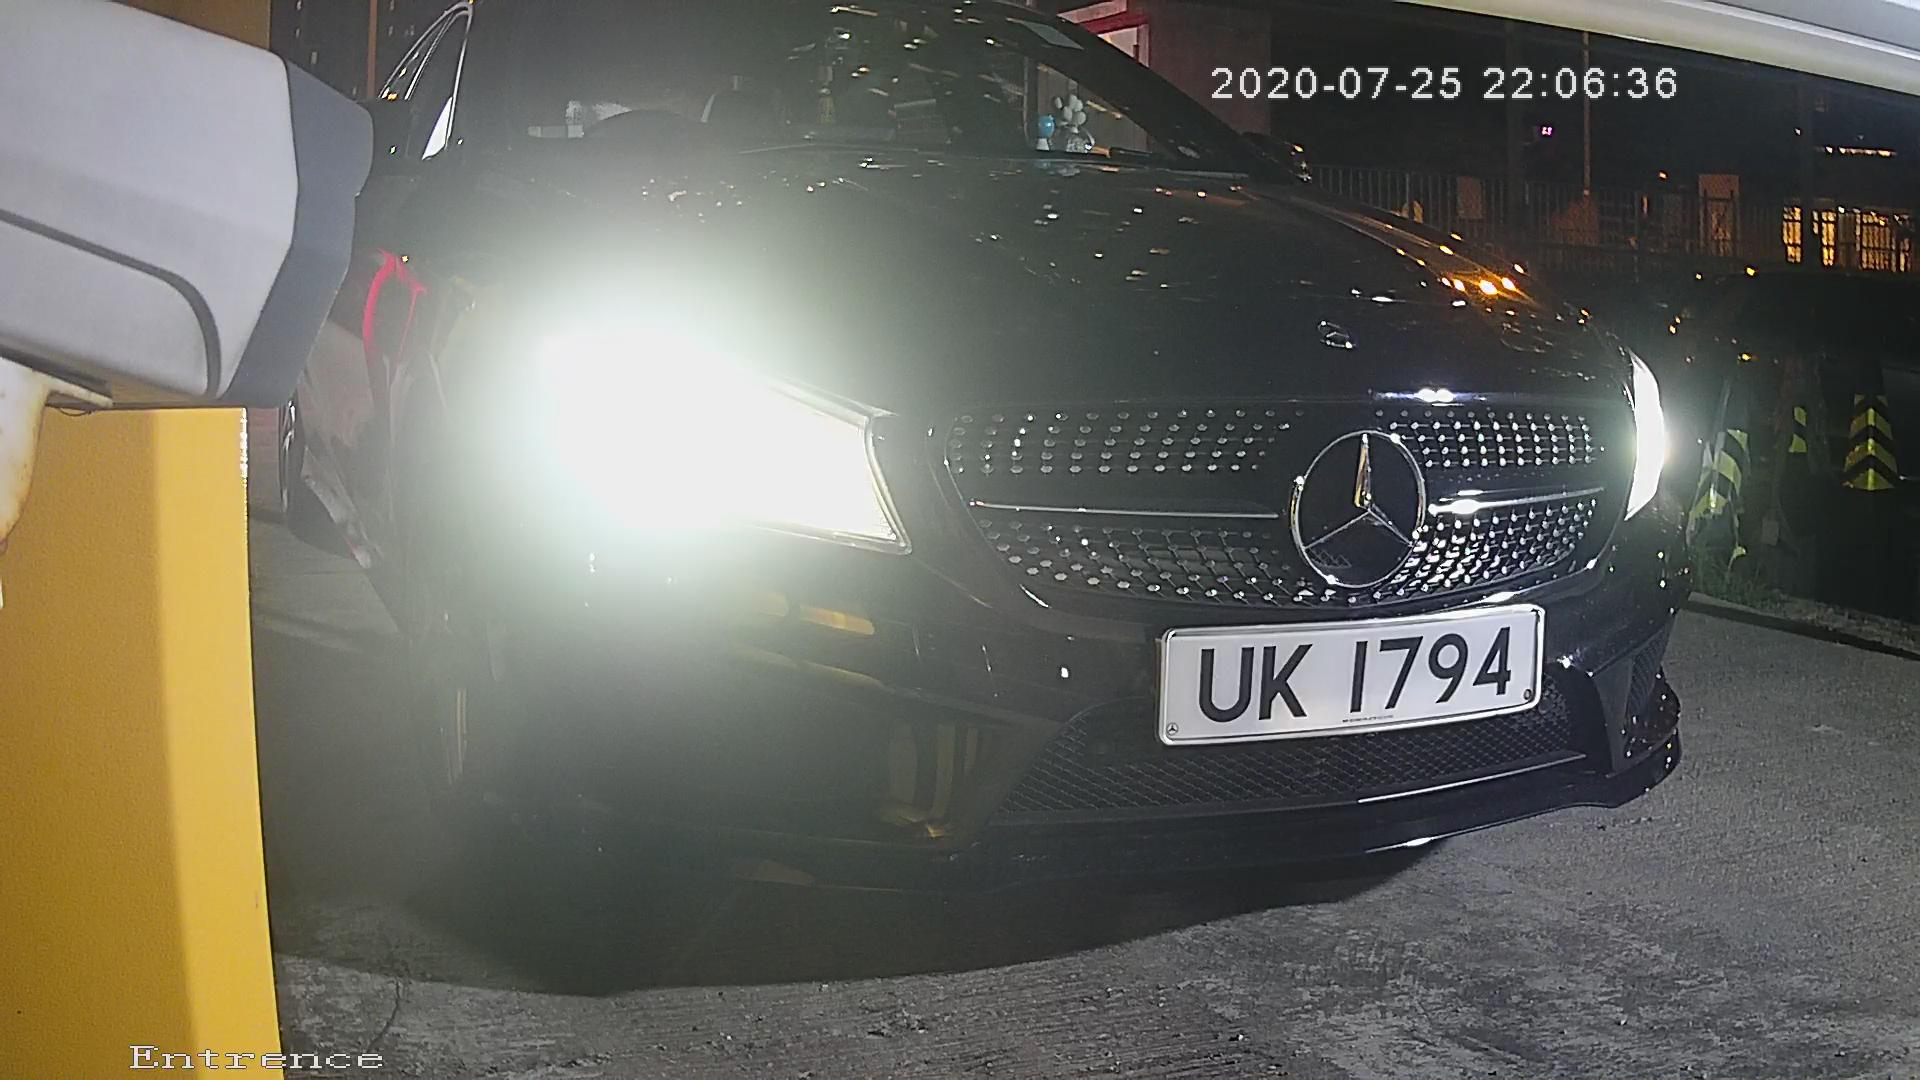Car: (69, 20, 1792, 946)
License Plate: (1132, 594, 1552, 757)
